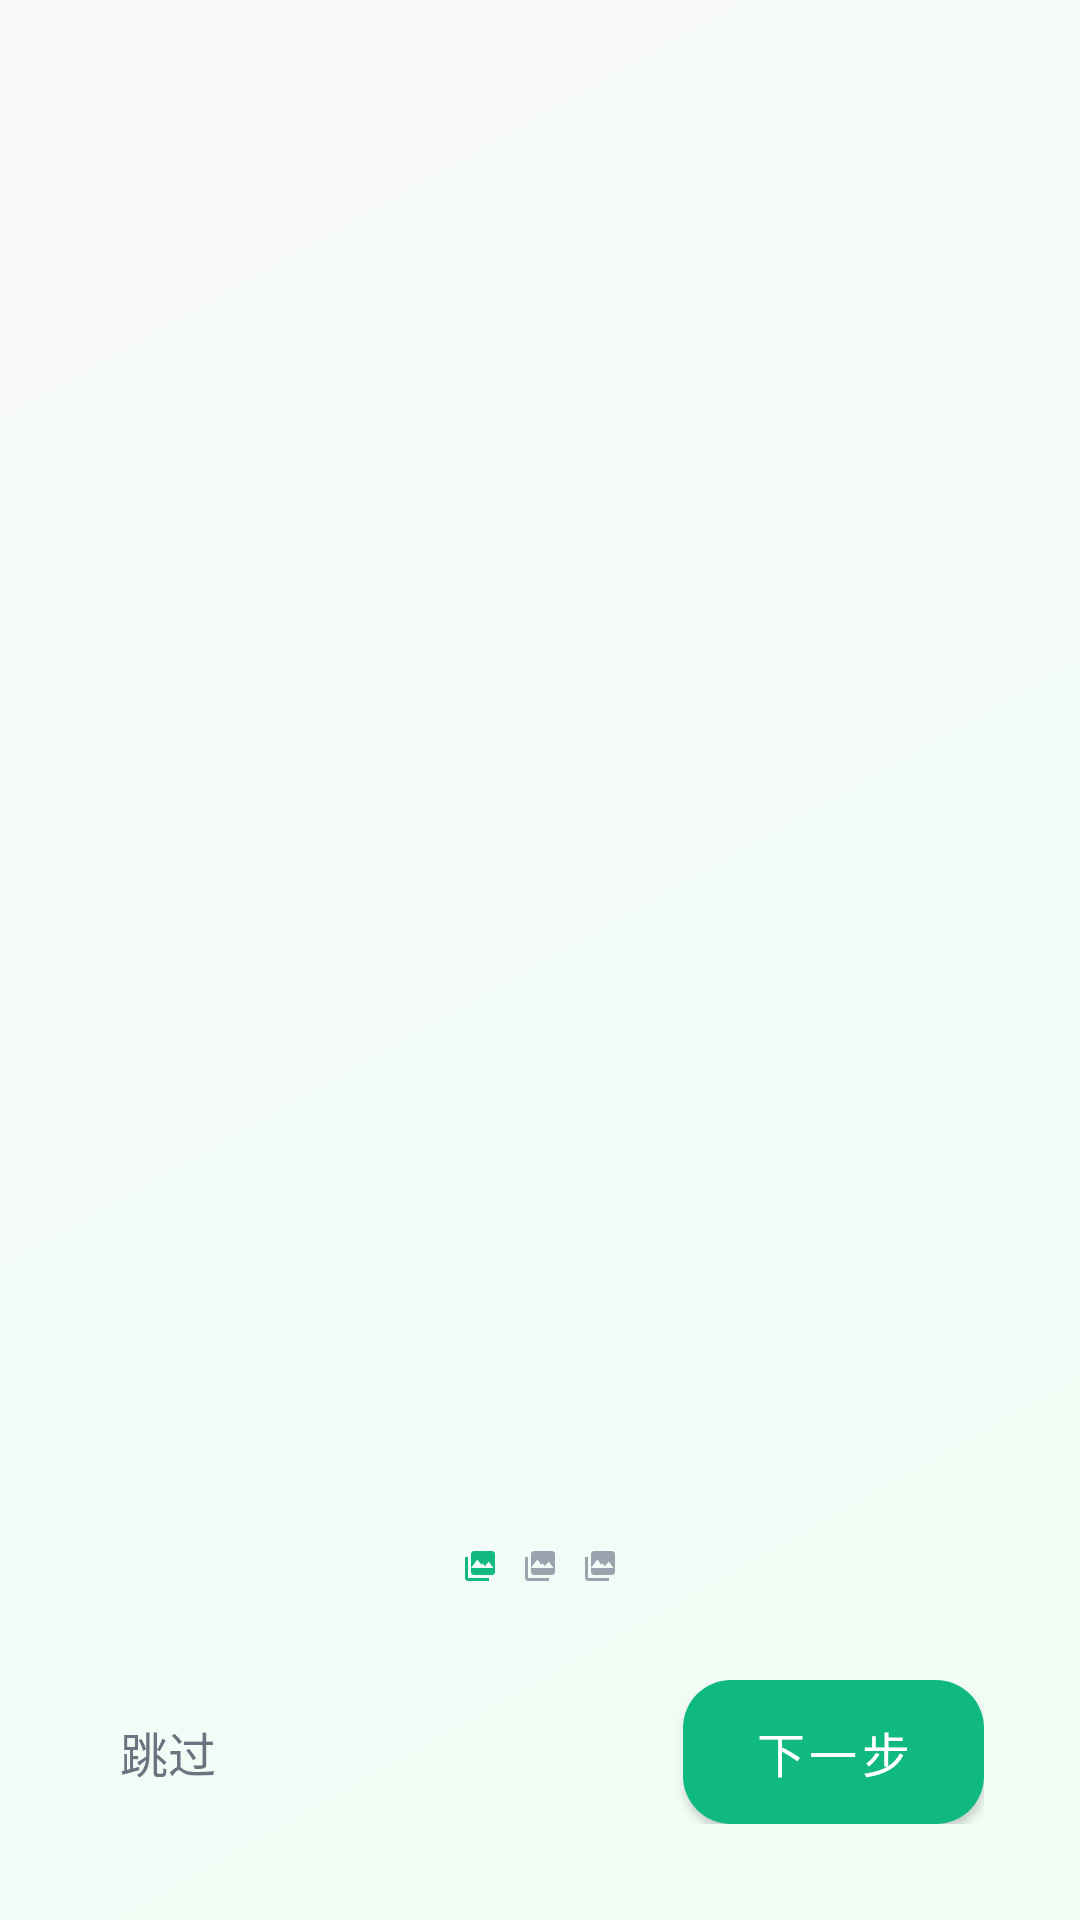

Icons on this 1080px x 1920px Android screen, each with the point to tap as point (x, y):
gallery: point (480, 1566), point (540, 1566), point (600, 1566)
